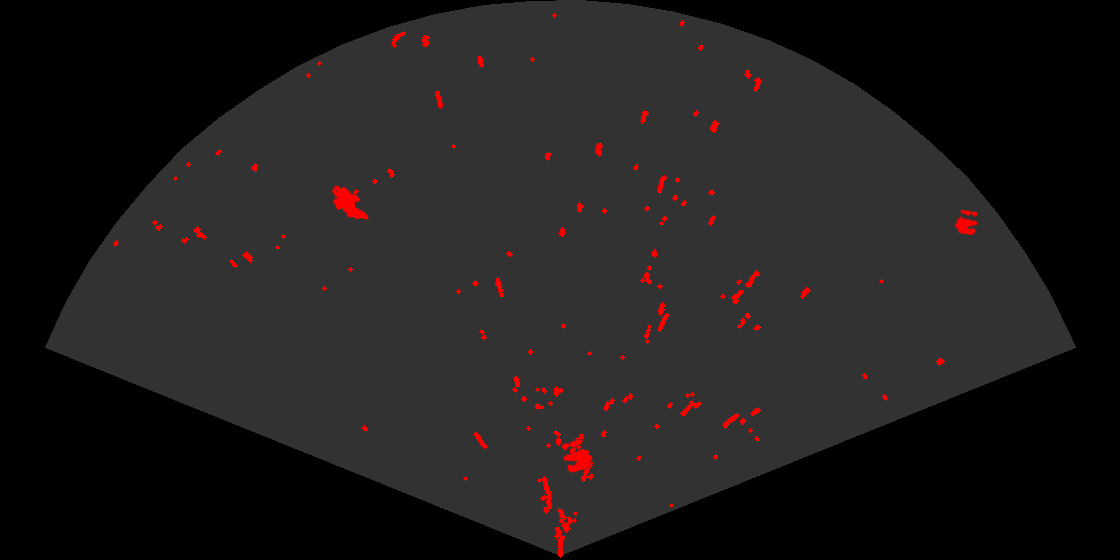AUV: (331, 184, 370, 221)
ball: (560, 438, 594, 474), (953, 208, 980, 237)
